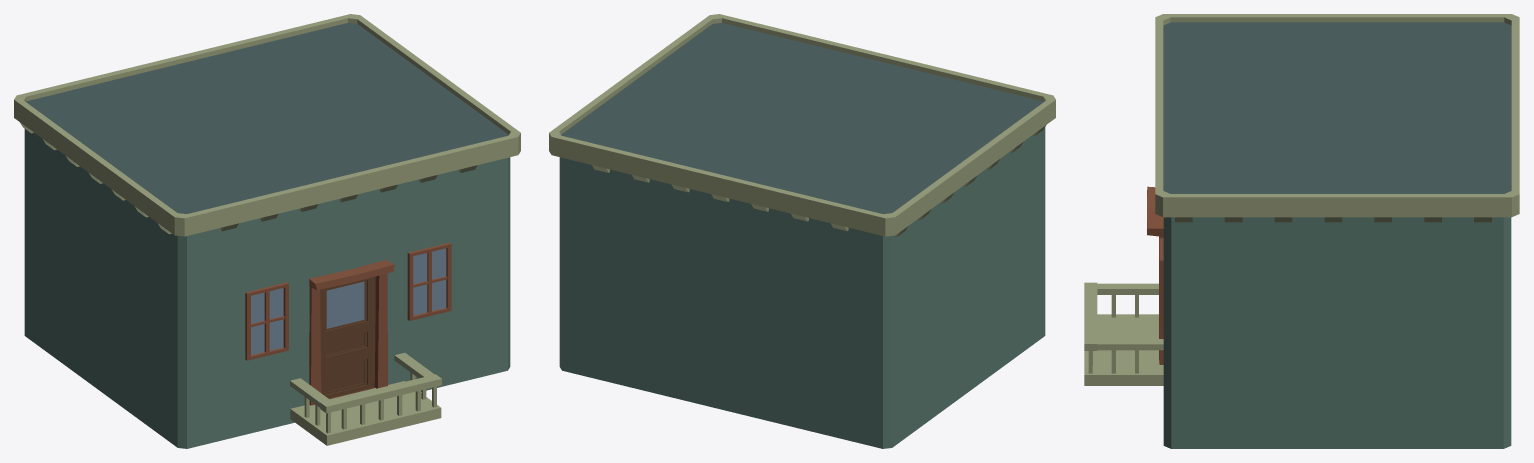
File: Building1MiddleBalcony.fbx
3 renders of one model, left to right at view 1: azimuth 30°, elevation 25°; view 2: azimuth 150°, elevation 25°; view 3: azimuth 270°, elevation 25°, orthographic. The views are drawn at different scales.
Parts seen in each view (by area): view 1: Building1MiddleBalcony; view 2: Building1MiddleBalcony; view 3: Building1MiddleBalcony.
Part boxes in pixels (<box>): Building1MiddleBalcony: <box>14,14,520,448</box>; Building1MiddleBalcony: <box>549,14,1055,448</box>; Building1MiddleBalcony: <box>1084,14,1519,448</box>.
Size of the model in its own units: 250 by 162 by 251.
